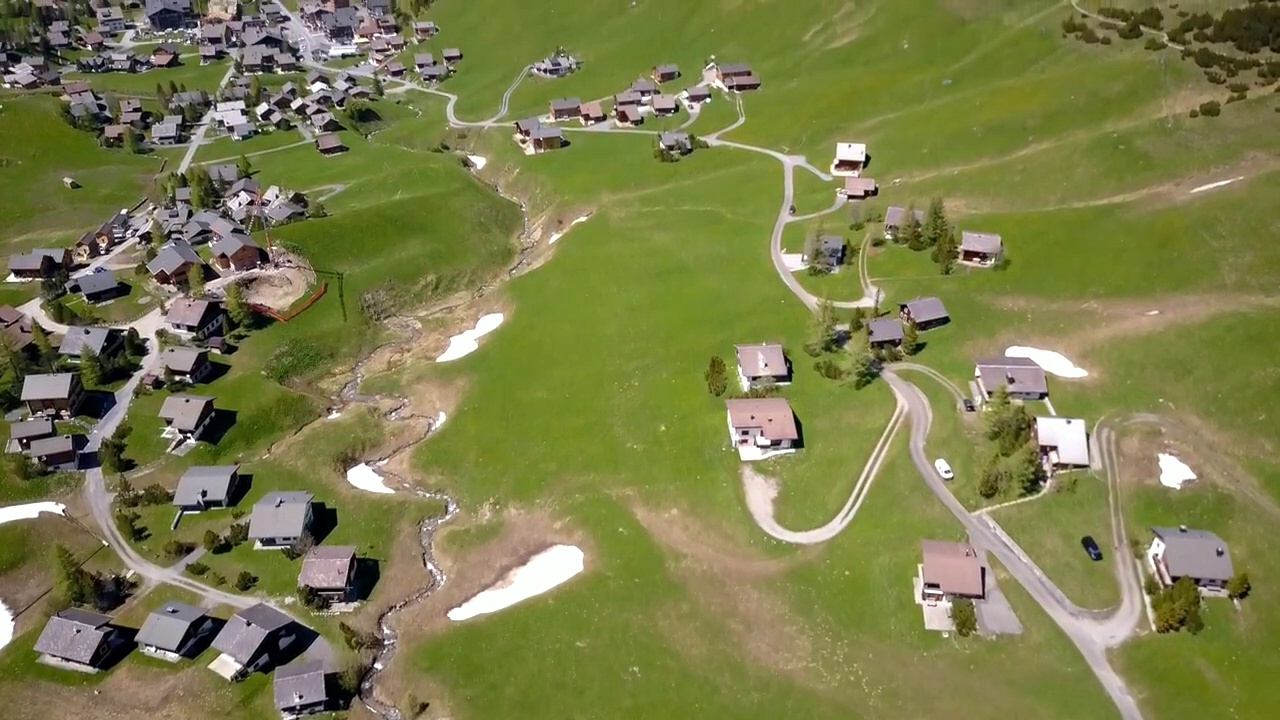araba: (1080, 535, 1105, 560), (935, 457, 954, 483)
